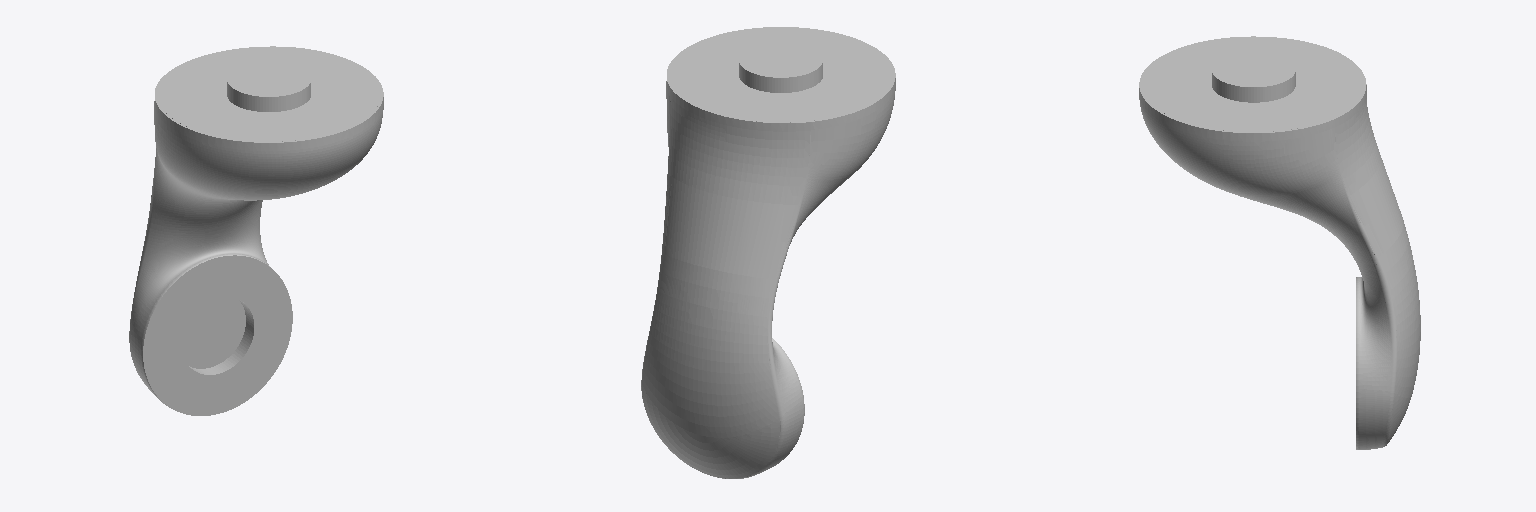
3 renders of one model, left to right at view 1: azimuth 30°, elevation 25°; view 2: azimuth 150°, elevation 25°; view 3: azimuth 270°, elevation 25°, orthographic.
Visible parts, largest first — view 1: Link_5; view 2: Link_5; view 3: Link_5.
Part boxes in pixels (x1,y1,x2,y2): Link_5: (129,46,383,415); Link_5: (641,27,895,478); Link_5: (1139,36,1420,449).
Bounding box in the file's own units: 0.136 × 0.244 × 0.1671.